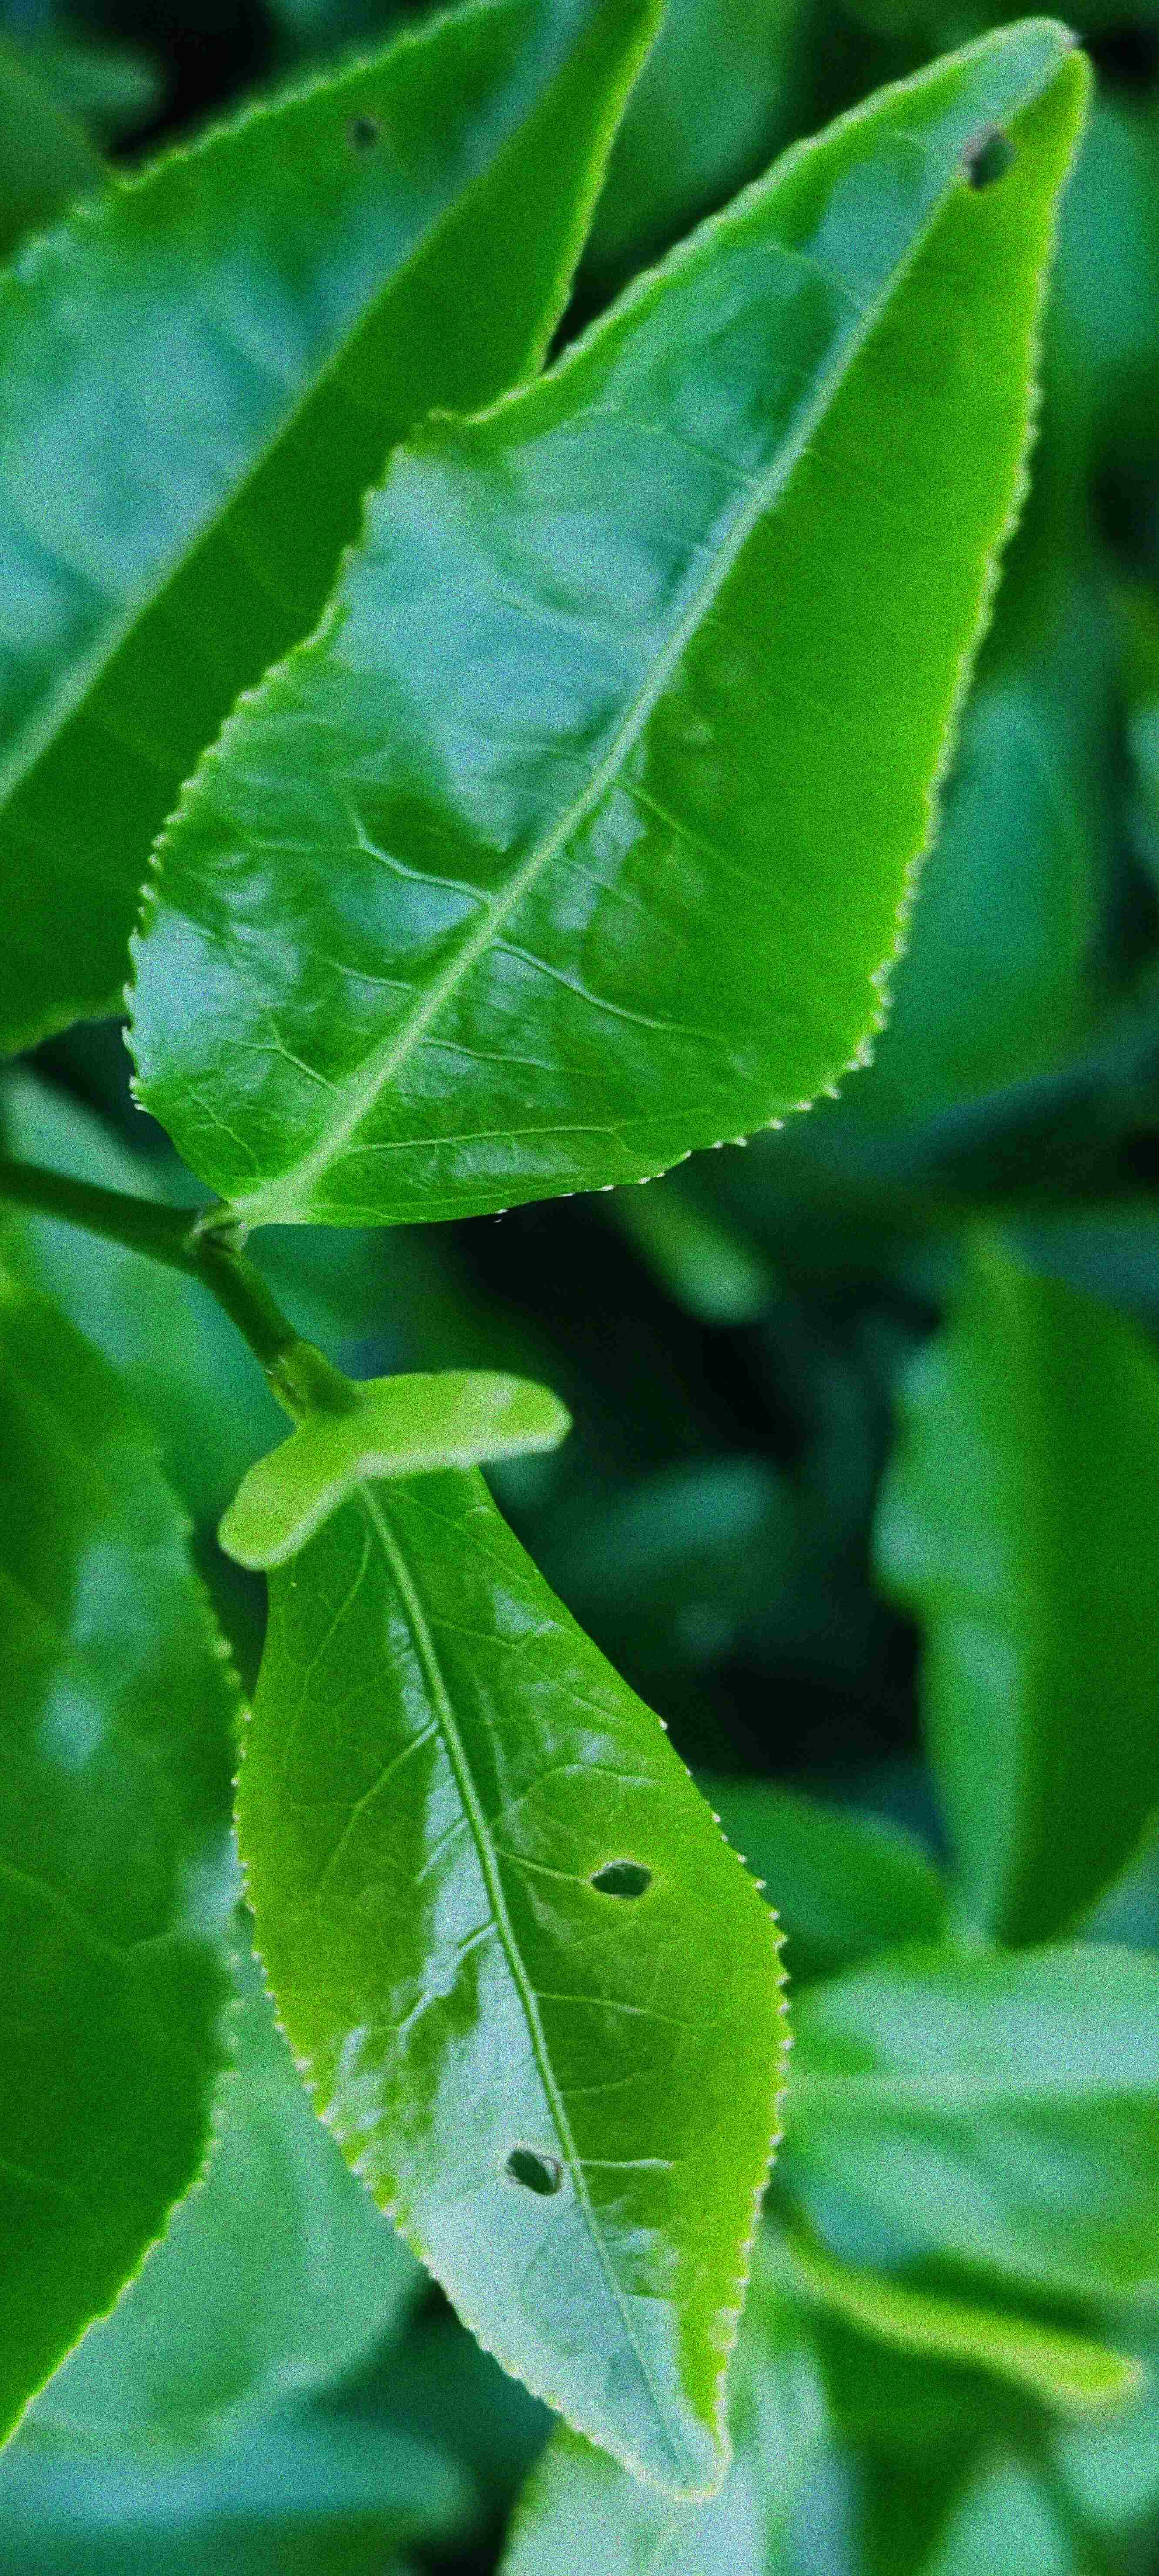chihuo_high: (227, 1465, 798, 2499)
chihuo_low: (118, 16, 1097, 1234)
